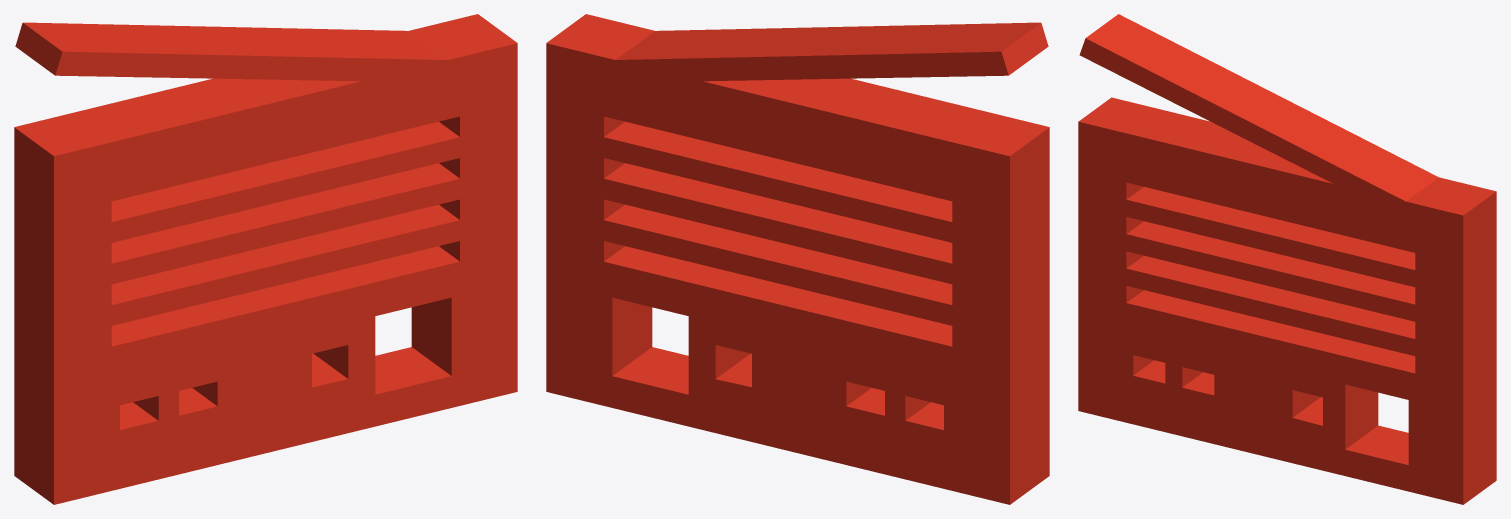
Rendered from Icon_Radio.fbx.
3 views of the same model, side by side, from view 1: azimuth 30°, elevation 25°; view 2: azimuth 150°, elevation 25°; view 3: azimuth 330°, elevation 25° (orthographic). The views are drawn at different scales.
Parts seen in each view (by area): view 1: Icon_Radio; view 2: Icon_Radio; view 3: Icon_Radio.
Boxes of the visible parts, left/top/right/bottom form: Icon_Radio: left=14, top=14, right=517, bottom=504; Icon_Radio: left=546, top=14, right=1049, bottom=504; Icon_Radio: left=1078, top=14, right=1496, bottom=504.
Bounding box in the file's own units: 81.03 × 75.33 × 12.06.
